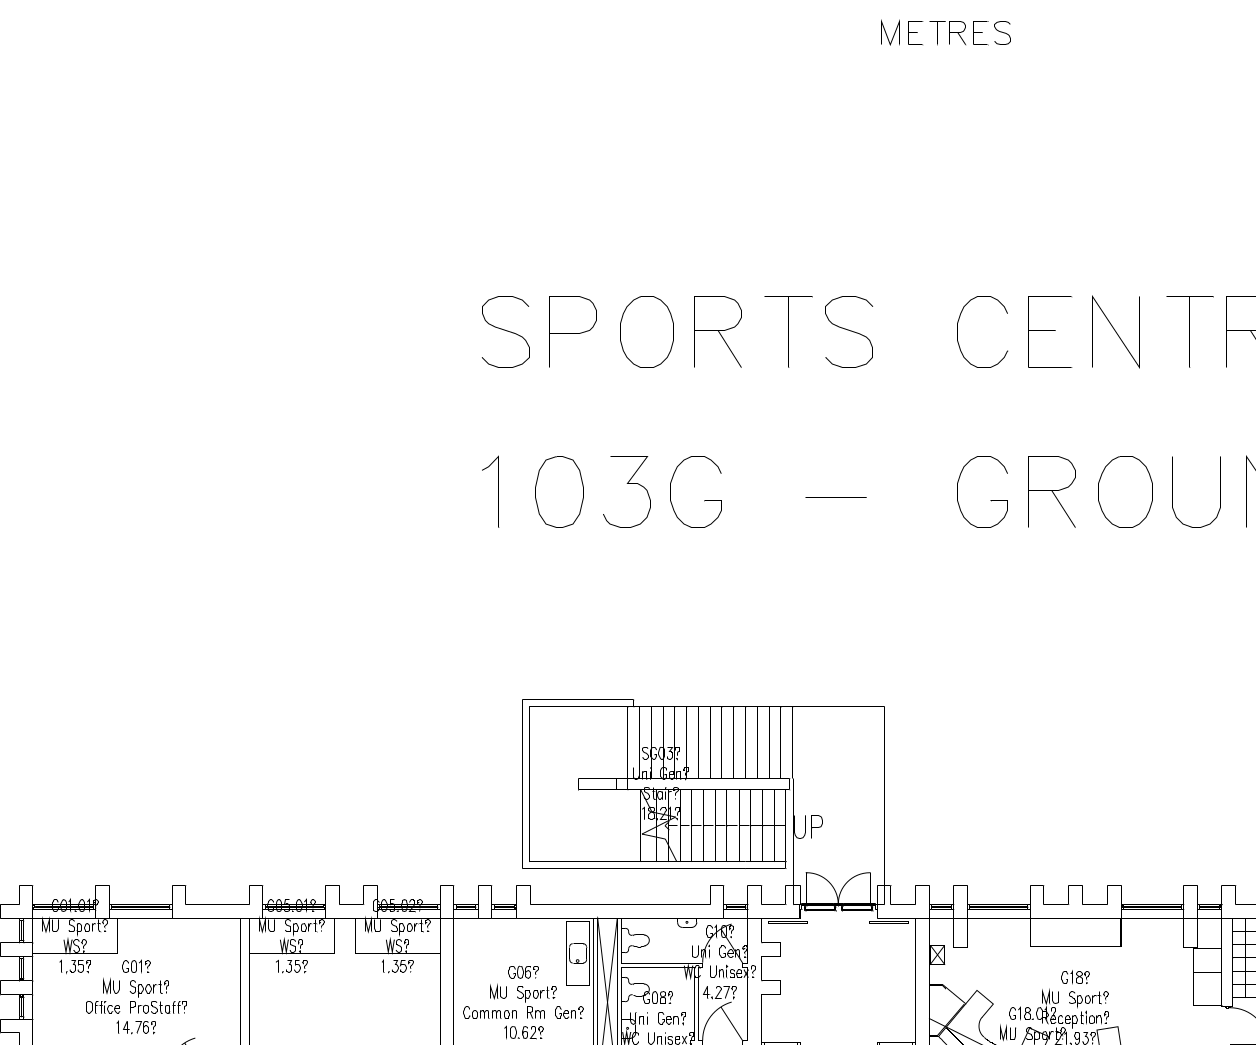door: (804, 866, 875, 916)
